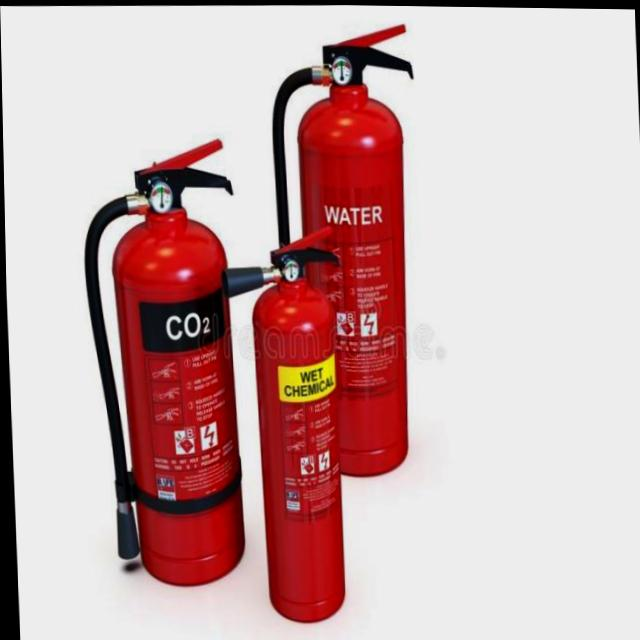FireExtinguisher: (73, 128, 253, 590), (259, 18, 428, 479), (216, 220, 356, 627)
